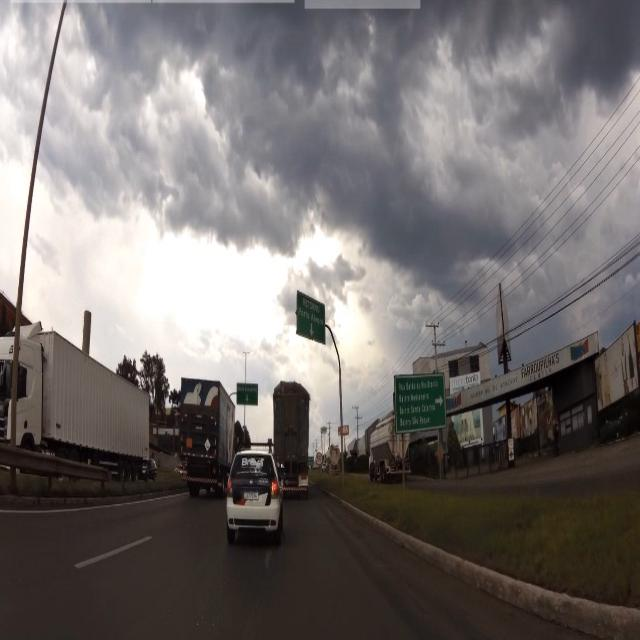I-4: (396, 372, 446, 434), (298, 290, 326, 345), (238, 383, 256, 405)
